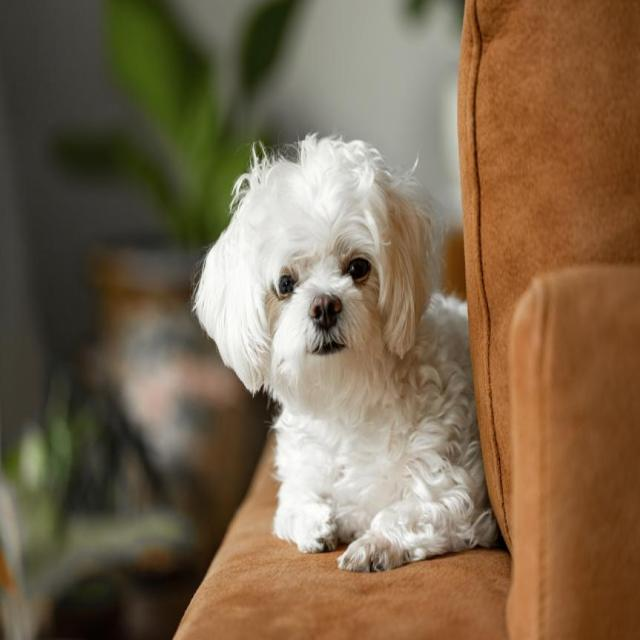maltese: (192, 131, 511, 593)
